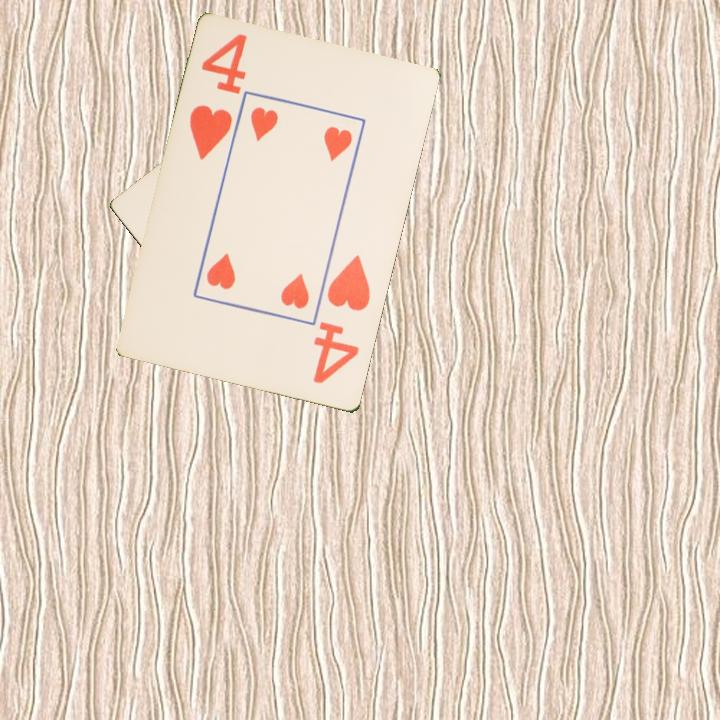4h: (309, 252, 374, 388), (186, 30, 251, 164)
